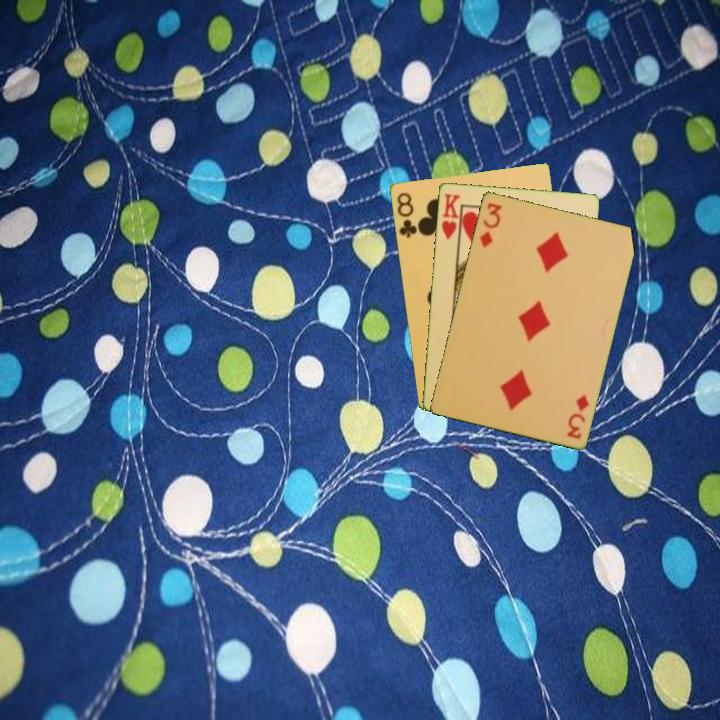3d: (475, 199, 505, 250), (563, 390, 592, 442)
8c: (393, 189, 419, 241)
Kh: (438, 190, 463, 246)
